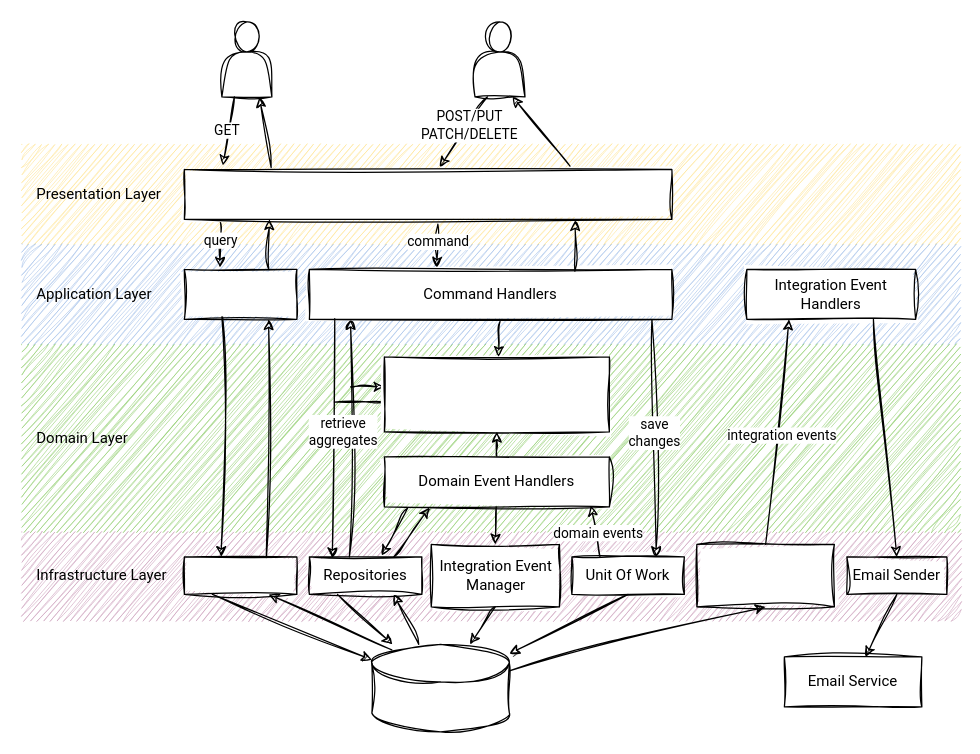
Some shapes in this 980 by 754 pixel diagram are drawn without their labels. Each missing label, with the box of its shape:
Domain Logic aggregates/domain services/factories: (383, 356, 609, 432)
Outbox Processor background job: (696, 543, 834, 607)
Query Context: (183, 556, 297, 594)
Query Handlers: (183, 268, 297, 319)
RDBMS: (371, 643, 509, 732)
REST API request validation/authorization/response mapping: (183, 168, 672, 219)
